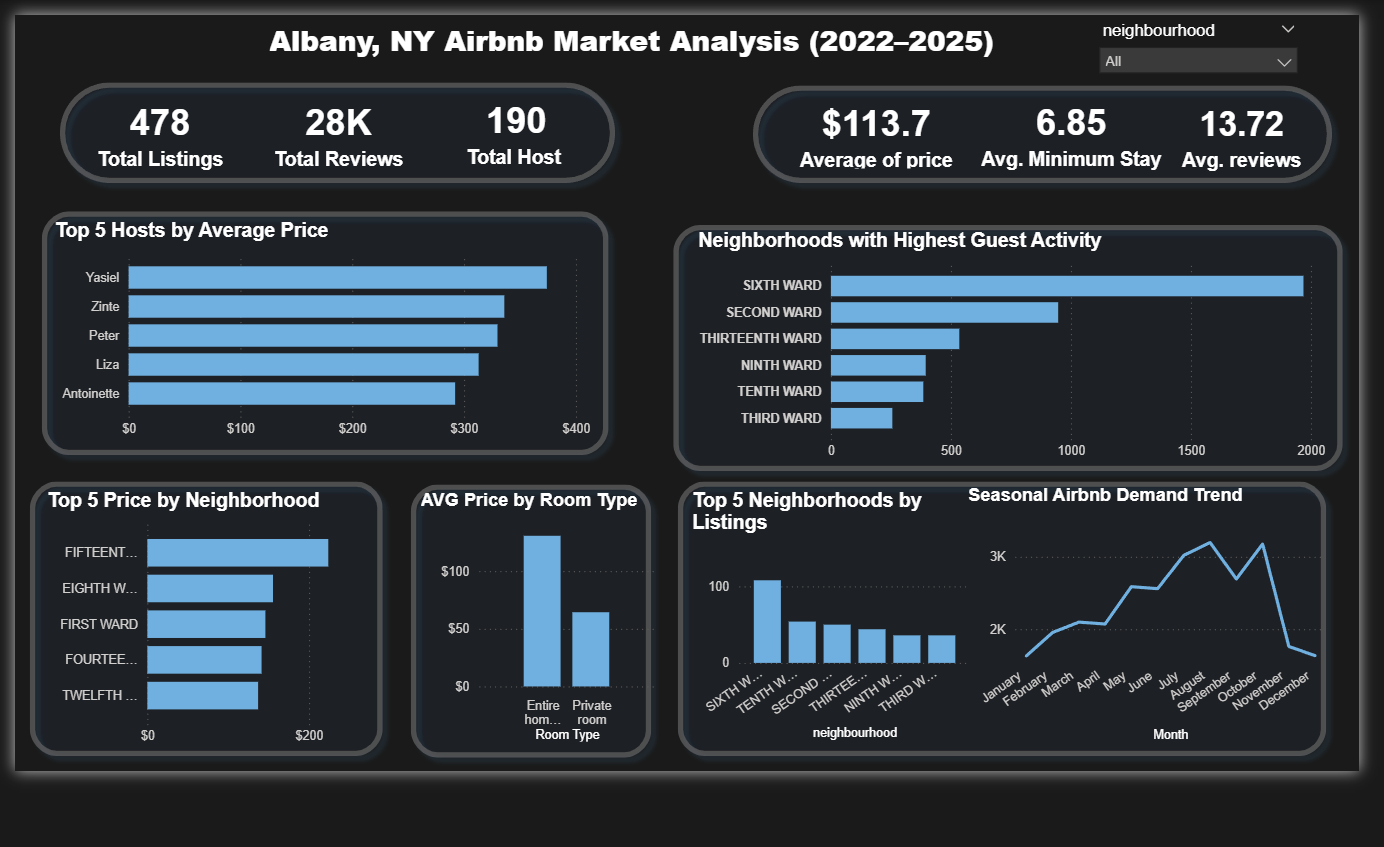

This screenshot's page, from the dashboard's own definition file:
{"tool":"powerbi","page":{"name":"Page 1","canvas":[1280,720],"ordinal":0},"visuals":[{"type":"group","id":"g1","title":"Group 1","box":[1.6,51.4,1276.1,666.5],"z":0},{"type":"shape","box":[29.7,51.4,554.3,121.4],"z":0,"group":"g1"},{"type":"card","fields":{"Values":["Count(listings.id)"]},"box":[38.6,67.1,198.6,88.6],"z":1000},{"type":"shape","box":[13.2,174.5,565,257.5],"z":1000,"group":"g1"},{"type":"textbox","box":[237.1,0,717.1,65.7],"z":2000},{"type":"shape","box":[689.7,53.9,577.1,118.6],"z":2000,"group":"g1"},{"type":"slicer","fields":{"Values":["listings.neighbourhood"]},"box":[1022.9,0,208.6,65.7],"z":3000},{"type":"shape","box":[614.9,186.5,662.9,260],"z":4000,"group":"g1"},{"type":"barChart","title":"Top 5 Hosts by Average Price","fields":{"Category":["listings.host_name"],"Y":["Avg(listings.price)"]},"box":[32.9,194.3,520,215.7],"z":4000},{"type":"shape","box":[619.2,430.8,642.9,287.1],"z":5000,"group":"g1"},{"type":"barChart","title":"Top 5 Price by Neighborhood","fields":{"Category":["listings.neighbourhood"],"Y":["Avg(listings.price)"]},"box":[25.7,451.4,350,251.4],"z":5000},{"type":"shape","box":[1.6,430.8,361.4,287.1],"z":6000,"group":"g1"},{"type":"shape","box":[364.3,434.3,254.3,285.7],"z":6000},{"type":"clusteredBarChart","title":"Neighborhoods with Highest Guest Activity","fields":{"Category":["listings.neighbourhood"],"Y":["Sum(listings.number_of_reviews_ltm)"]},"box":[645.7,204.3,607.1,227.1],"z":7000},{"type":"columnChart","title":"Top 5 Neighborhoods by Listings","fields":{"Category":["listings.neighbourhood"],"Y":["CountNonNull(listings.id)"]},"box":[640,451.4,274.3,244.3],"z":8000},{"type":"clusteredColumnChart","title":"AVG Price by Room Type","fields":{"Category":["listings.room_type"],"Y":["Avg(listings.price)"]},"box":[381.4,451.4,232.9,245.7],"z":9000},{"type":"card","fields":{"Values":["Count(listings.host_id)"]},"box":[375.7,64.3,202.9,90],"z":10000},{"type":"card","fields":{"Values":["Avg(listings.minimum_nights)"]},"box":[914.3,67.1,182.9,88.6],"z":11000},{"type":"card","fields":{"Values":["Avg(listings.price)"]},"box":[737.1,72.9,165.7,78.6],"z":12000},{"type":"card","fields":{"Values":["Avg(listings.number_of_reviews_ltm)"]},"box":[1082.9,67.1,170,92.9],"z":13000},{"type":"card","fields":{"Values":["Sum(listings.number_of_reviews)"]},"box":[208.6,67.1,198.6,88.6],"z":14000},{"type":"lineChart","title":"Seasonal Airbnb Demand Trend","fields":{"Category":["reviews.date.Variation.Date Hierarchy.Month"],"Y":["CountNonNull(reviews.listing_id)"]},"box":[902.9,447.1,350,250],"z":15000}]}

Visuals, with their boxes on the page's 1280x720 design canvas (x1, y1, x2, y2). These are canvas units, not pixel positions in the 1384x847 screenshot, which may show the page scaled, cropped or inside an application window:
"Group 1" group: Rect(2, 51, 1278, 718)
shape: Rect(30, 51, 584, 173)
card - Count(listings.id): Rect(39, 67, 237, 156)
shape: Rect(13, 174, 578, 432)
textbox: Rect(237, 0, 954, 66)
shape: Rect(690, 54, 1267, 172)
slicer - listings.neighbourhood: Rect(1023, 0, 1232, 66)
shape: Rect(615, 186, 1278, 446)
"Top 5 Hosts by Average Price" barChart: Rect(33, 194, 553, 410)
shape: Rect(619, 431, 1262, 718)
"Top 5 Price by Neighborhood" barChart: Rect(26, 451, 376, 703)
shape: Rect(2, 431, 363, 718)
shape: Rect(364, 434, 619, 720)
"Neighborhoods with Highest Guest Activity" clusteredBarChart: Rect(646, 204, 1253, 431)
"Top 5 Neighborhoods by Listings" columnChart: Rect(640, 451, 914, 696)
"AVG Price by Room Type" clusteredColumnChart: Rect(381, 451, 614, 697)
card - Count(listings.host_id): Rect(376, 64, 579, 154)
card - Avg(listings.minimum_nights): Rect(914, 67, 1097, 156)
card - Avg(listings.price): Rect(737, 73, 903, 152)
card - Avg(listings.number_of_reviews_ltm): Rect(1083, 67, 1253, 160)
card - Sum(listings.number_of_reviews): Rect(209, 67, 407, 156)
"Seasonal Airbnb Demand Trend" lineChart: Rect(903, 447, 1253, 697)
